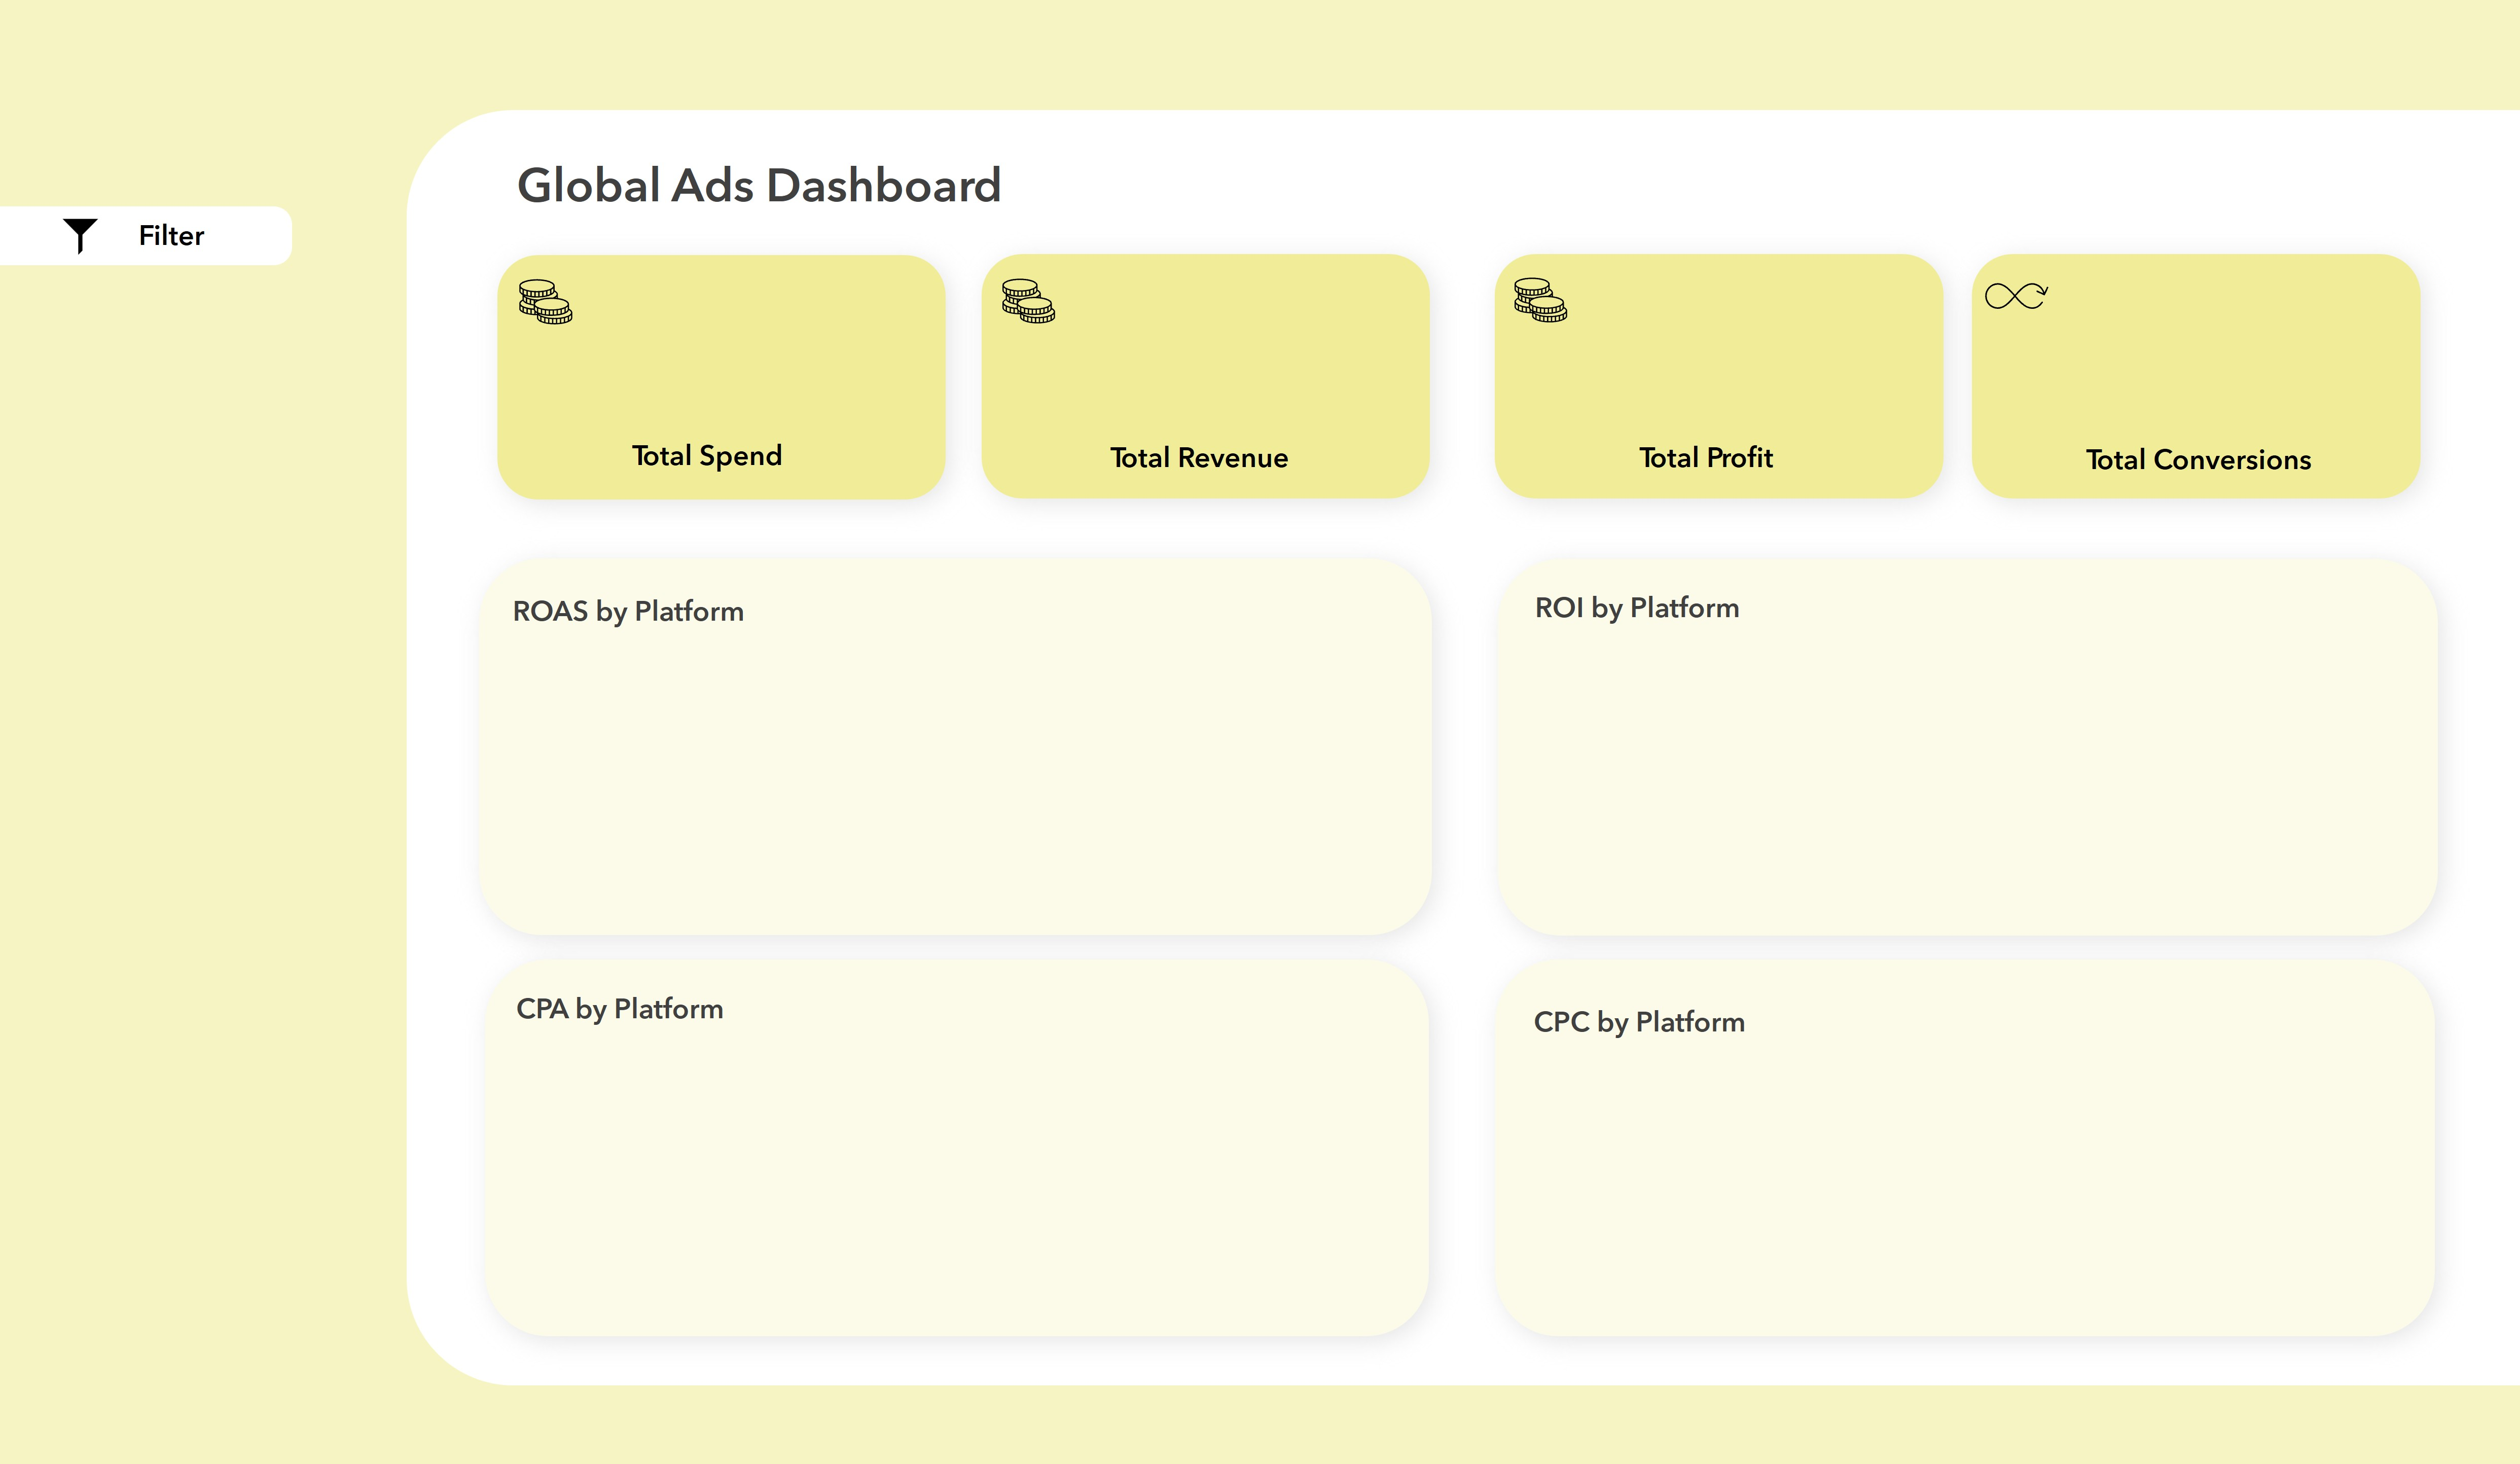

Layout of this report page (visuals, bound fields, positions):
{"tool":"powerbi","page":{"name":"Página 1","canvas":[1280,720],"ordinal":0},"visuals":[{"type":"card","fields":{"Values":["Global Ads.ad_spend"]},"box":[269.9,134.9,190.4,73.5],"z":0},{"type":"card","fields":{"Values":["Global Ads.revenue"]},"box":[520.5,125.3,177.1,88],"z":1000},{"type":"card","fields":{"Values":["Global Ads.profit"]},"box":[797.6,127.7,154.2,88],"z":2000},{"type":"card","fields":{"Values":["Global Ads.conversions"]},"box":[1032.5,125.3,167.5,88],"z":3000},{"type":"clusteredColumnChart","title":"ROAS Mean per Platform","fields":{"Category":["Global Ads.platform"],"Y":["Global Ads.ROAS"]},"box":[291.7,299,379.2,138.5],"z":4000},{"type":"clusteredColumnChart","title":"CPA Mean per Platform","fields":{"Category":["Global Ads.platform"],"Y":["Global Ads.CPA"]},"box":[291.7,499.2,378.6,139.2],"z":5000},{"type":"clusteredColumnChart","title":"CPC Mean per Platform","fields":{"Category":["Global Ads.platform"],"Y":["Global Ads.CPC"]},"box":[824,506,367,141],"z":6000},{"type":"slicer","fields":{"Values":["Global Ads.platform"]},"box":[12,147,156.6,141],"z":7000},{"type":"slicer","fields":{"Values":["Global Ads.campaign_type"]},"box":[21.7,477.1,160.2,171.1],"z":8000},{"type":"clusteredColumnChart","title":"ROI Mean per Platform","fields":{"Category":["Global Ads.platform"],"Y":["Global Ads.ROI"]},"box":[812.5,299,366.7,132.3],"z":9000},{"type":"slicer","fields":{"Values":["Global Ads.Month"]},"box":[14.5,288,150.6,160.2],"z":10000}]}

Visuals, with their boxes on the page's 1280x720 design canvas (x1, y1, x2, y2). These are canvas units, not pixel positions in the 2520x1464 screenshot, which may show the page scaled, cropped or inside an application window:
card - Global Ads.ad_spend: x1=270 y1=135 x2=460 y2=208
card - Global Ads.revenue: x1=520 y1=125 x2=698 y2=213
card - Global Ads.profit: x1=798 y1=128 x2=952 y2=216
card - Global Ads.conversions: x1=1032 y1=125 x2=1200 y2=213
"ROAS Mean per Platform" clusteredColumnChart: x1=292 y1=299 x2=671 y2=438
"CPA Mean per Platform" clusteredColumnChart: x1=292 y1=499 x2=670 y2=638
"CPC Mean per Platform" clusteredColumnChart: x1=824 y1=506 x2=1191 y2=647
slicer - Global Ads.platform: x1=12 y1=147 x2=169 y2=288
slicer - Global Ads.campaign_type: x1=22 y1=477 x2=182 y2=648
"ROI Mean per Platform" clusteredColumnChart: x1=812 y1=299 x2=1179 y2=431
slicer - Global Ads.Month: x1=14 y1=288 x2=165 y2=448
